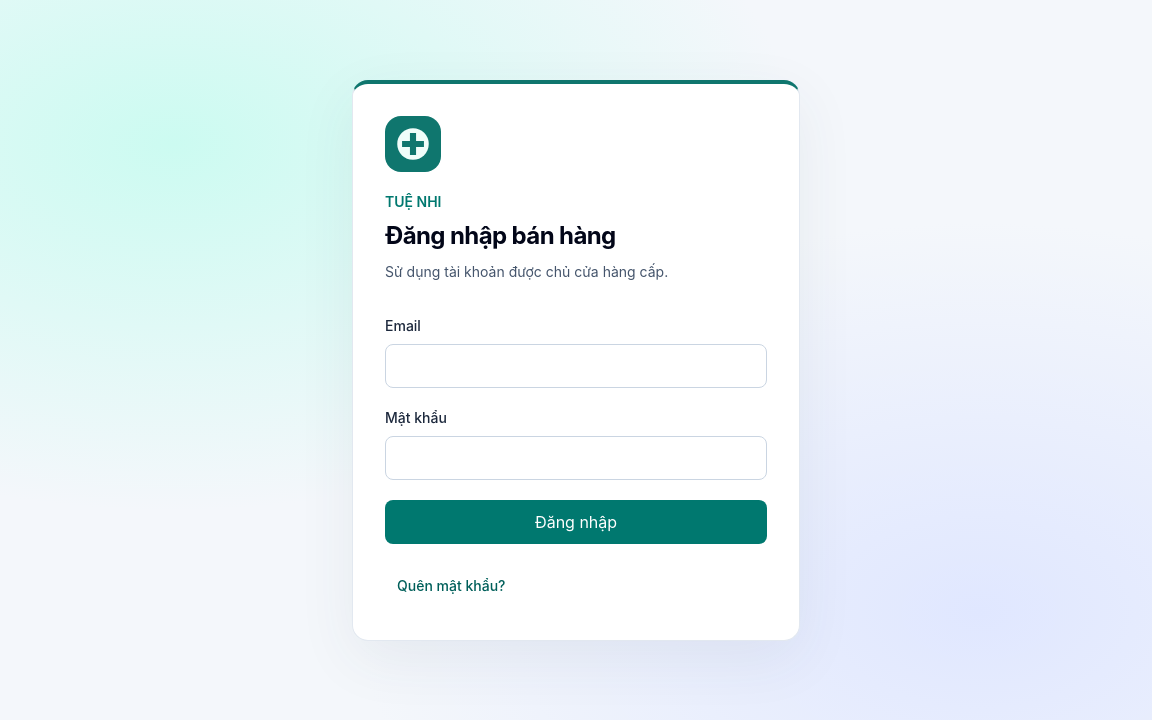
LoginPage › shows field-level Vietnamese validation
Type "email-sai" into the field labelled "Email" at point(576, 366), box [385,344,767,388]
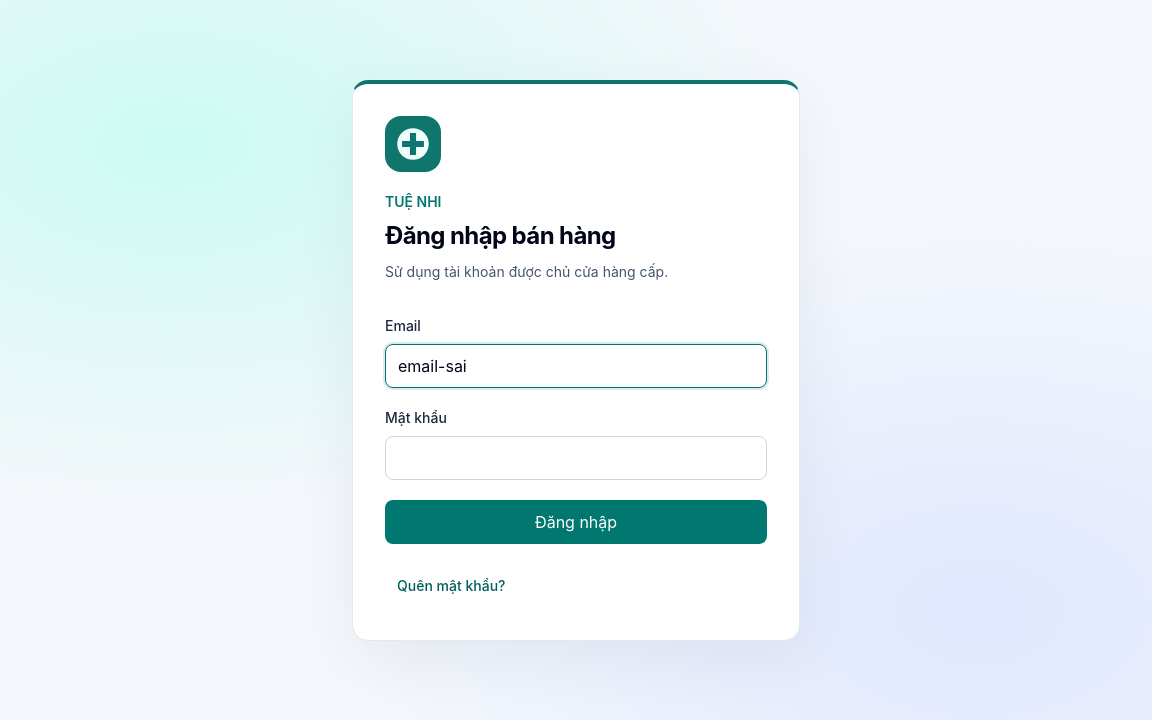
Click the button "Đăng nhập" at point(576, 522), box [385,500,767,544]
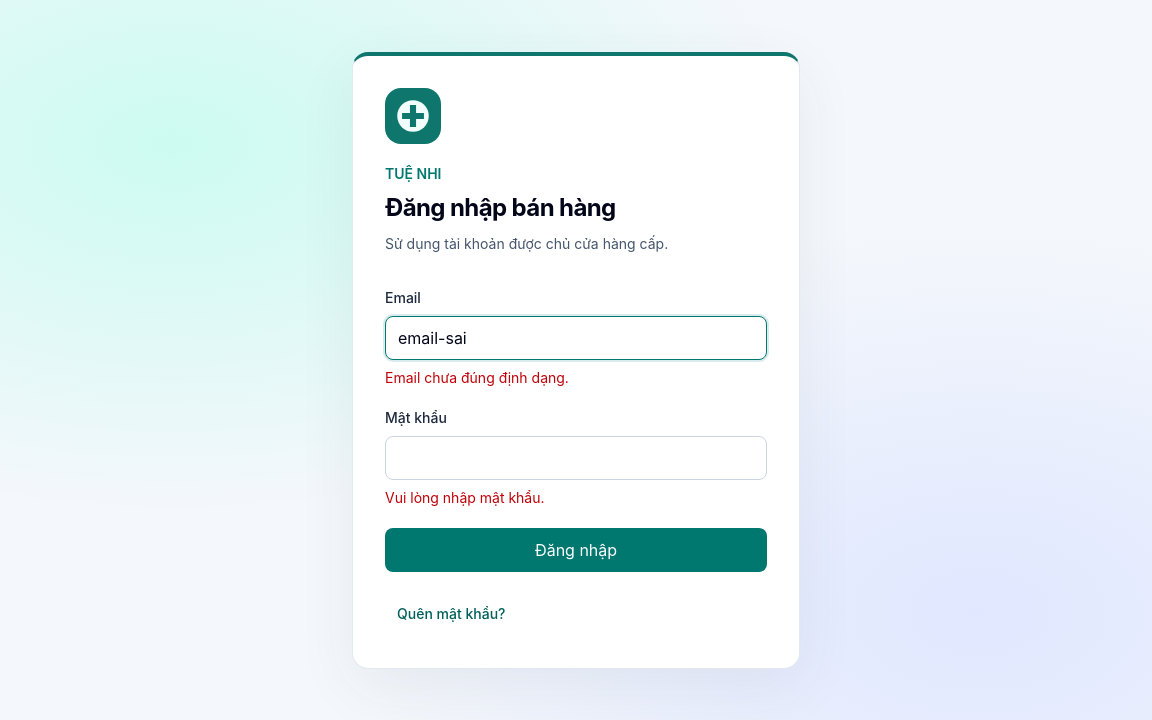
expect the text "Email chưa đúng định dạng." is shown: met, box [385,368,569,386]
expect the text "Vui lòng nhập mật khẩu." is shown: met, box [385,488,544,506]
